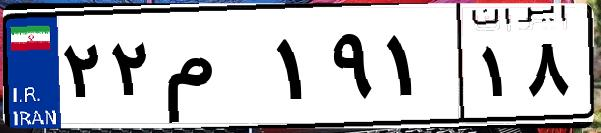1: (270, 28, 330, 110), (385, 28, 445, 110), (475, 38, 525, 113)
2: (57, 26, 110, 100), (110, 28, 158, 98)
8: (525, 38, 570, 115)
9: (330, 28, 385, 110)
م: (158, 20, 270, 120)
